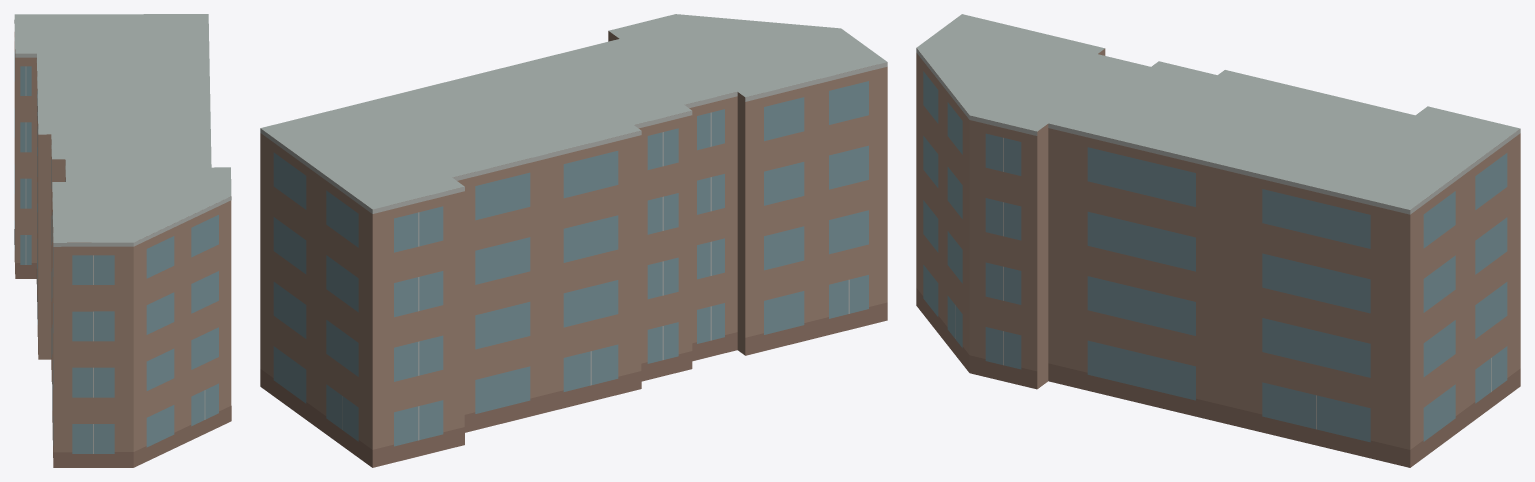
File: survey-upis-32651957.glb
The picture shows the model from 3 angles, left to right: view 1: azimuth 30°, elevation 25°; view 2: azimuth 150°, elevation 25°; view 3: azimuth 270°, elevation 25°; orthographic projection. The views are drawn at different scales.
Parts seen in each view (by area): view 1: survey-upis-32651957.tmp; view 2: survey-upis-32651957.tmp; view 3: survey-upis-32651957.tmp.
Boxes of the visible parts, x1,y1,x2,y2 form: survey-upis-32651957.tmp: (14,14,231,467); survey-upis-32651957.tmp: (260,14,887,467); survey-upis-32651957.tmp: (916,14,1520,467).
Bounding box in the file's own units: 22.36 × 13.7 × 29.11.
